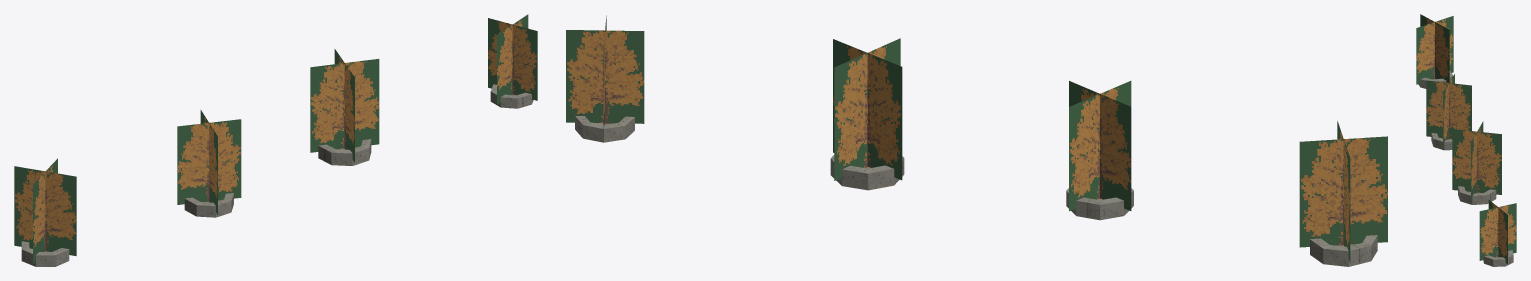
Rendered from procgen-procpain-tree-park-large-xm2z2.obj.
The picture shows the model from 3 angles, left to right: view 1: azimuth 30°, elevation 25°; view 2: azimuth 150°, elevation 25°; view 3: azimuth 270°, elevation 25°; orthographic projection. The views are drawn at different scales.
Size of the model in its own units: 50.02 by 7.88 by 10.99.
